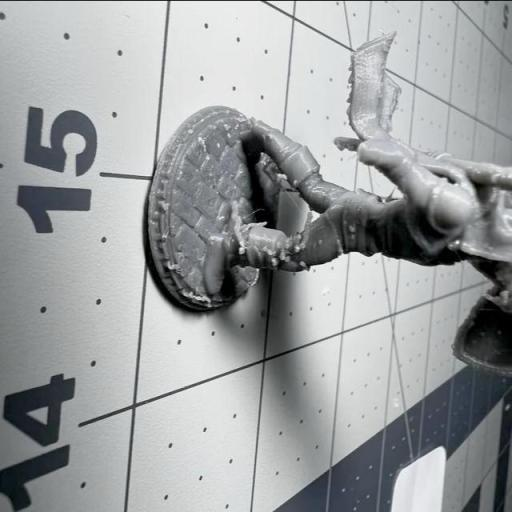blobs: (346, 220, 360, 235), (277, 248, 290, 262), (296, 258, 308, 272), (293, 230, 304, 241), (292, 243, 302, 254), (264, 245, 274, 256), (290, 177, 300, 186), (237, 245, 246, 254), (318, 236, 326, 246), (269, 258, 278, 266)
